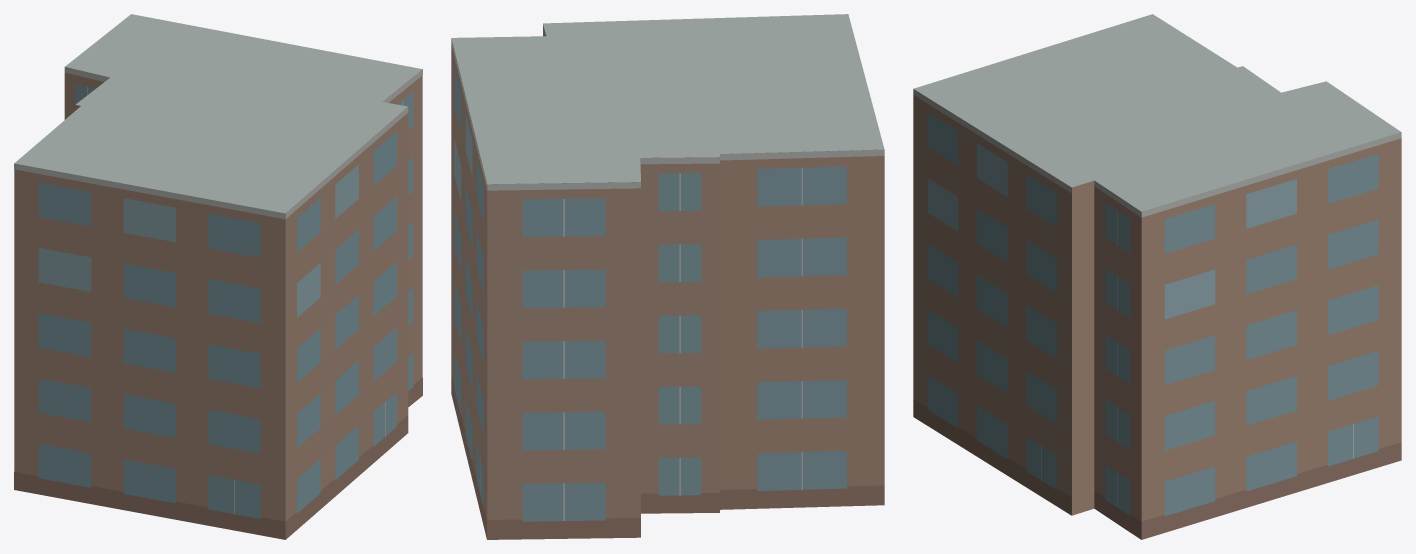
The model's file is survey-upis-32682835.glb.
The picture shows the model from 3 angles, left to right: view 1: azimuth 30°, elevation 25°; view 2: azimuth 150°, elevation 25°; view 3: azimuth 270°, elevation 25°; orthographic projection. The views are drawn at different scales.
Parts seen in each view (by area): view 1: survey-upis-32682835.tmp; view 2: survey-upis-32682835.tmp; view 3: survey-upis-32682835.tmp.
Part boxes in pixels (x1,y1,x2,y2): survey-upis-32682835.tmp: (14, 14, 422, 539); survey-upis-32682835.tmp: (451, 14, 884, 539); survey-upis-32682835.tmp: (913, 14, 1401, 539).
Size of the model in its own units: 17.46 by 13.5 by 18.22.
